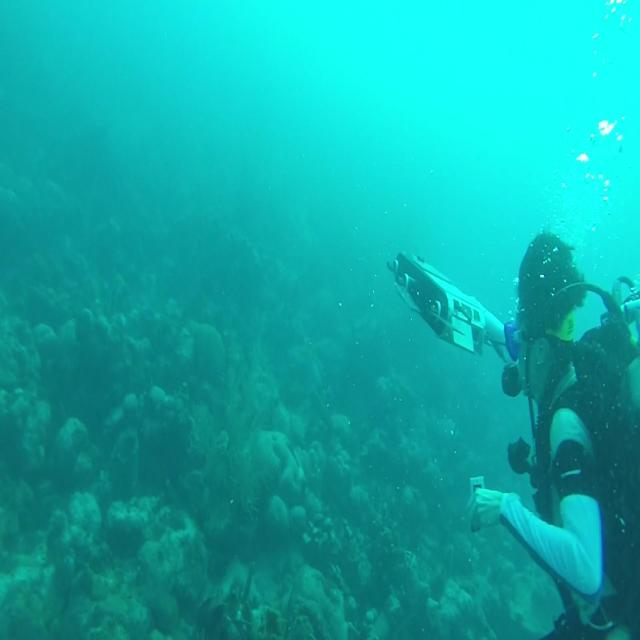human: (387, 229, 639, 638)
